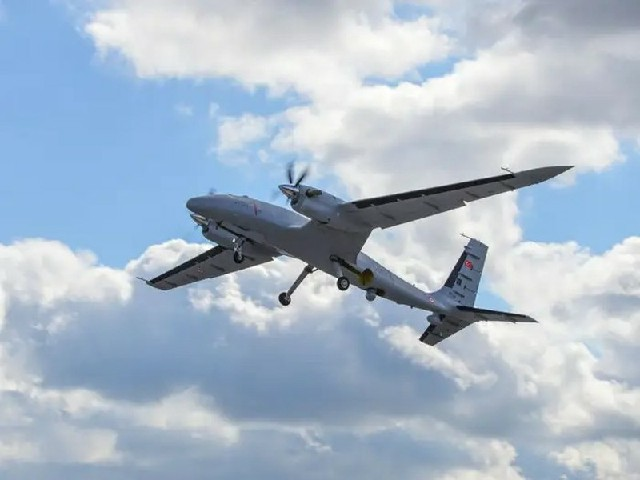maybay_khongnguoilai: (151, 160, 537, 355)
